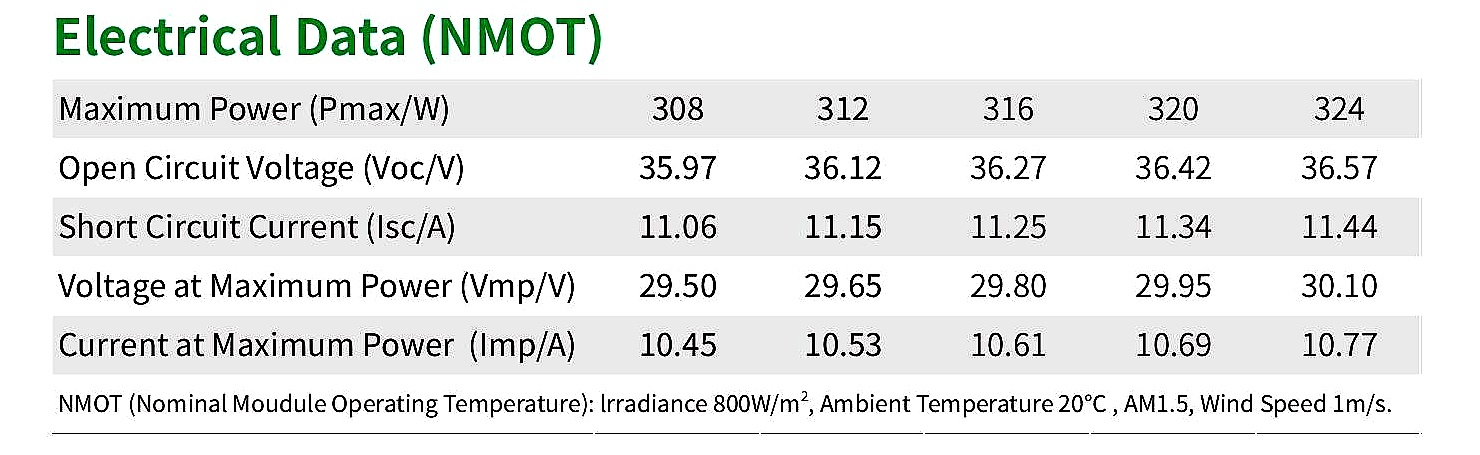table: (31, 79, 1447, 438)
table column: (46, 79, 602, 428), (1264, 79, 1435, 438), (928, 77, 1096, 437), (1095, 78, 1263, 437), (762, 75, 928, 435), (602, 78, 763, 433)
table name: (43, 5, 634, 71)
table row: (39, 319, 1433, 379), (42, 259, 1431, 317), (38, 139, 1447, 196), (40, 196, 1435, 253), (40, 82, 1445, 138), (35, 381, 1437, 433)
table row header: (40, 79, 602, 425)
table spanning cell: (38, 382, 1431, 434)
